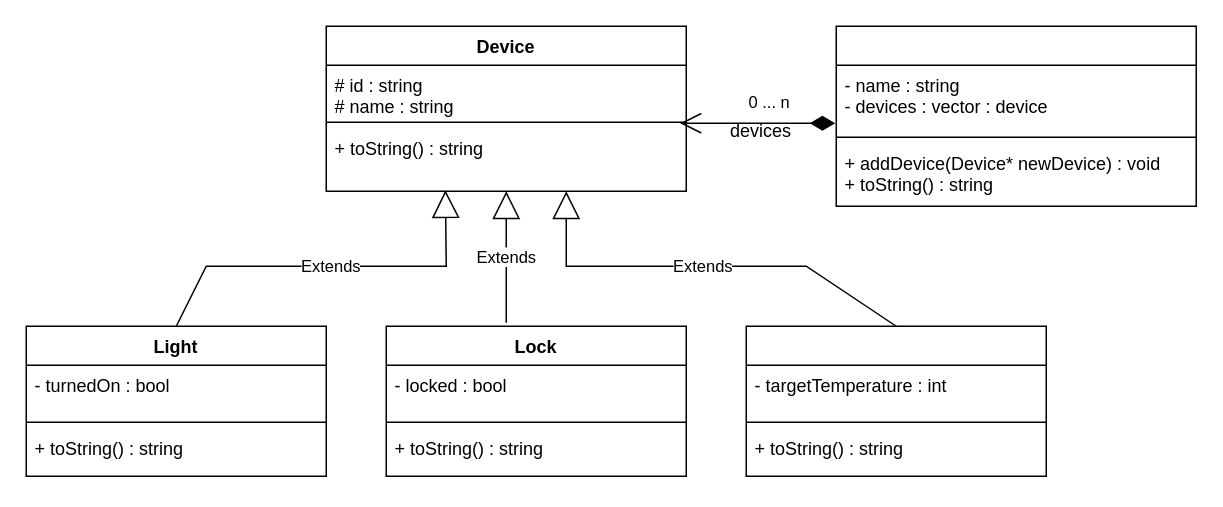
Image size: 1223x507. Some labels were removed from this diagram. The box of each missing label's shape, as (x1, y1, x2, y2) in pixels:
AirConditioner: (745, 325, 1046, 476)
SmartHome: (835, 25, 1196, 206)
